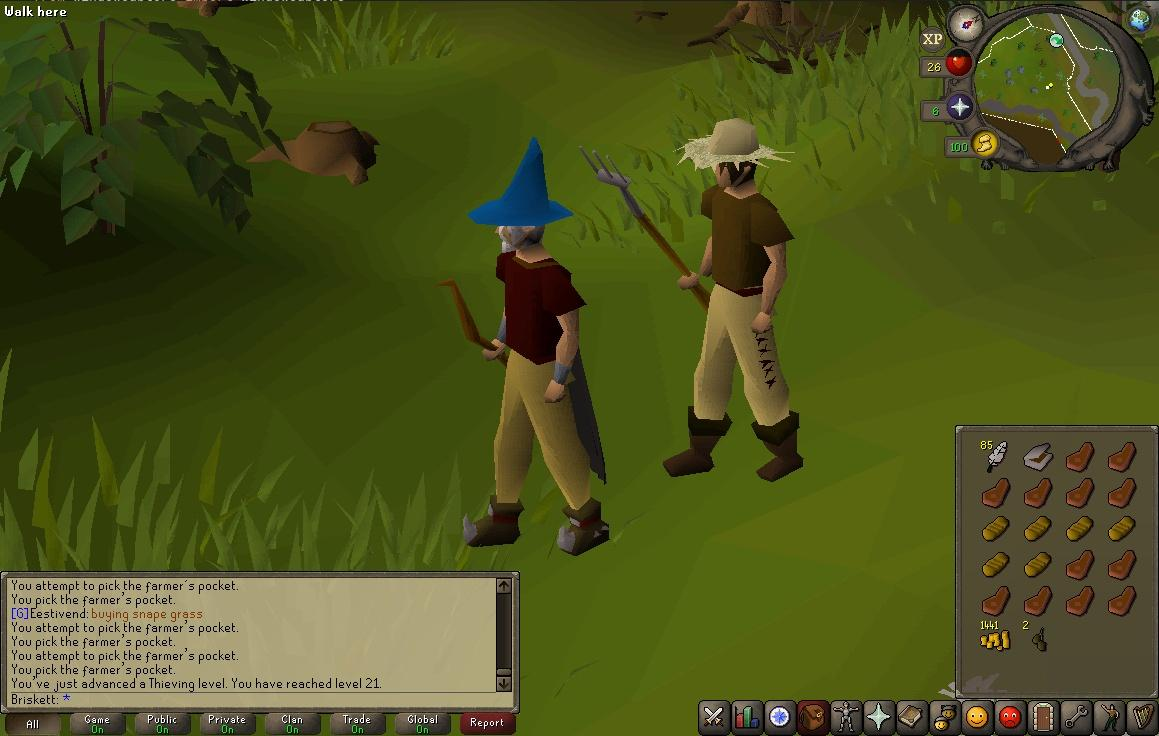Farmer: (586, 117, 806, 484)
